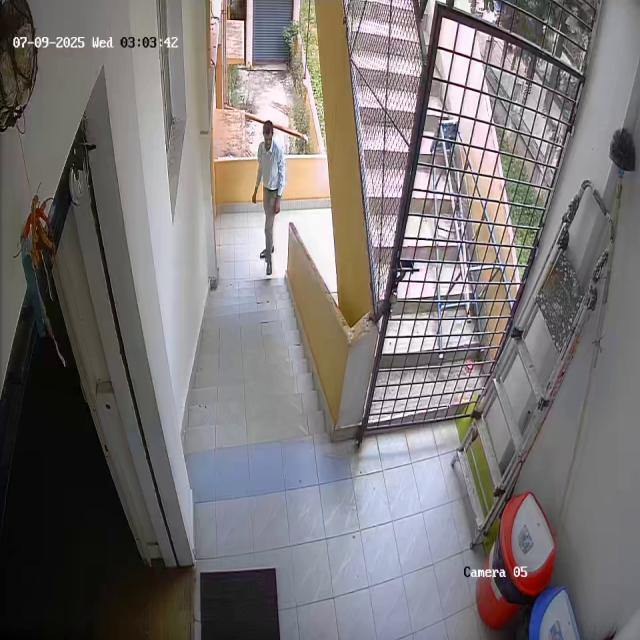person: (248, 118, 287, 276)
